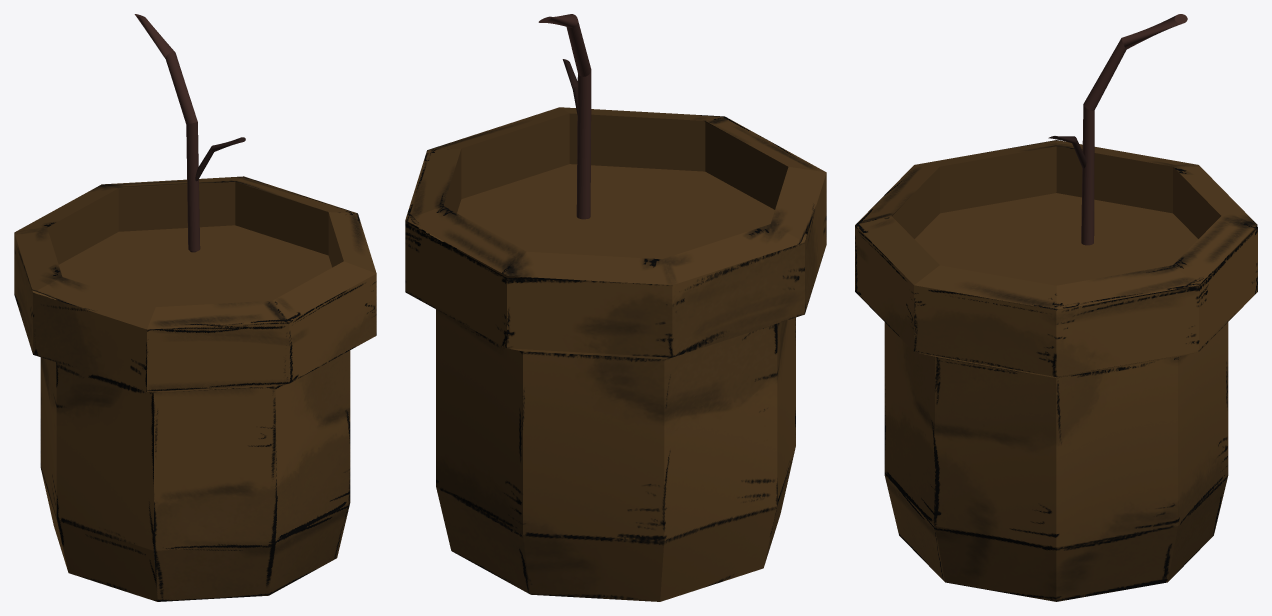
File: plantes_rabougrie.fbx
3 renders of one model, left to right at view 1: azimuth 30°, elevation 25°; view 2: azimuth 150°, elevation 25°; view 3: azimuth 270°, elevation 25°, orthographic. The views are drawn at different scales.
Visible parts, largest first — view 1: pot_tige_morte; view 2: pot_tige_morte; view 3: pot_tige_morte.
Boxes of the visible parts, box(x1,y1,x2,y2) form: pot_tige_morte: box(14, 14, 376, 601); pot_tige_morte: box(405, 14, 826, 601); pot_tige_morte: box(855, 14, 1257, 601).
Size of the model in its own units: 18.52 by 26.41 by 18.52.
